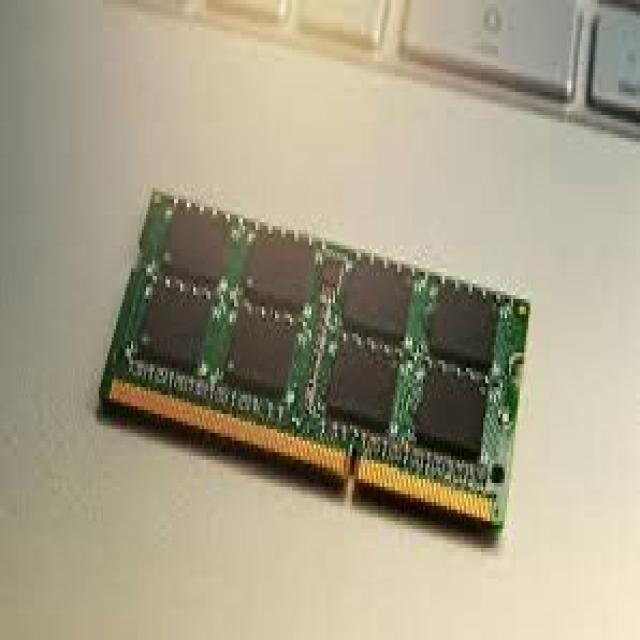Ram: (74, 72, 568, 550)
